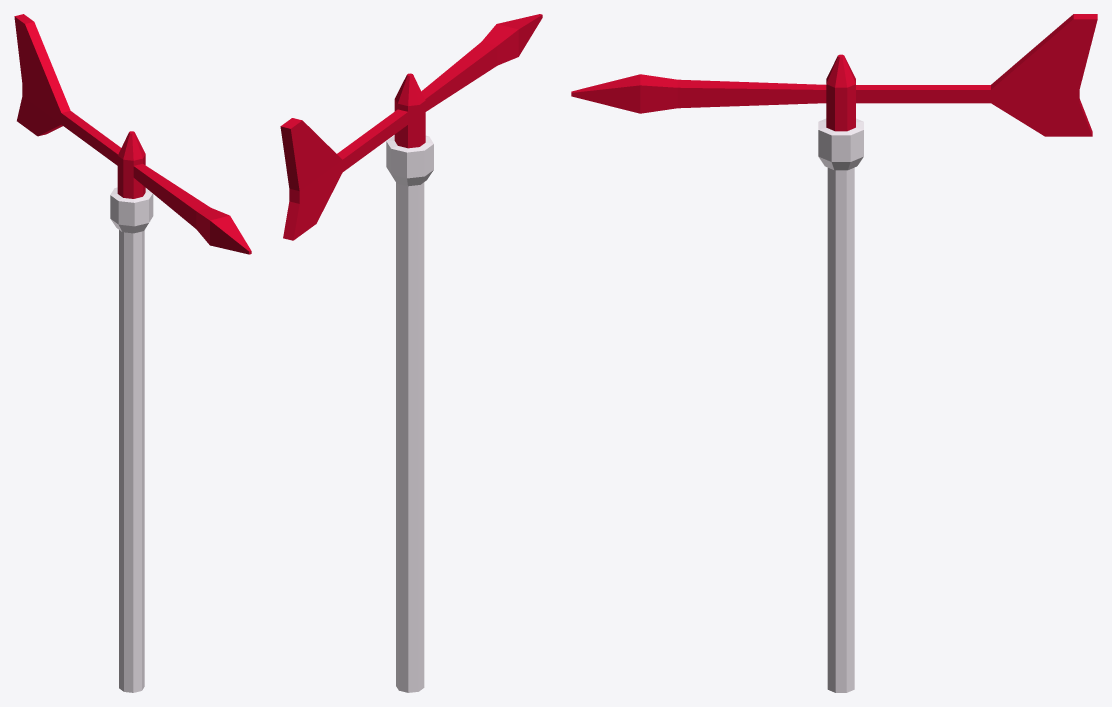
File: WindIndicator.fbx
3 renders of one model, left to right at view 1: azimuth 30°, elevation 25°; view 2: azimuth 150°, elevation 25°; view 3: azimuth 270°, elevation 25°, orthographic. The views are drawn at different scales.
Parts seen in each view (by area): view 1: Base, Arrow; view 2: Base, Arrow; view 3: Arrow, Base.
Part boxes in pixels (x1,y1,x2,y2): Base: (110, 187, 153, 692); Arrow: (14, 14, 251, 254); Base: (386, 135, 433, 692); Arrow: (280, 14, 542, 240); Arrow: (571, 14, 1097, 136); Base: (818, 118, 863, 692).
Bounding box in the file's own units: 0.0316 × 0.5113 × 0.3637.
